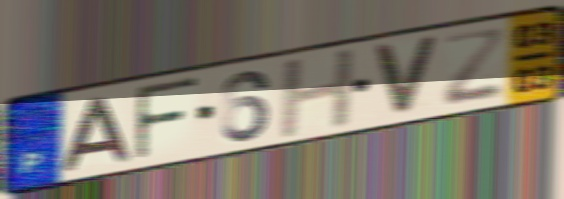6: (220, 68, 273, 143)
A: (58, 95, 135, 174)
F: (132, 74, 202, 164)
H: (276, 45, 358, 143)
V: (370, 34, 442, 117)
Z: (440, 25, 508, 109)
